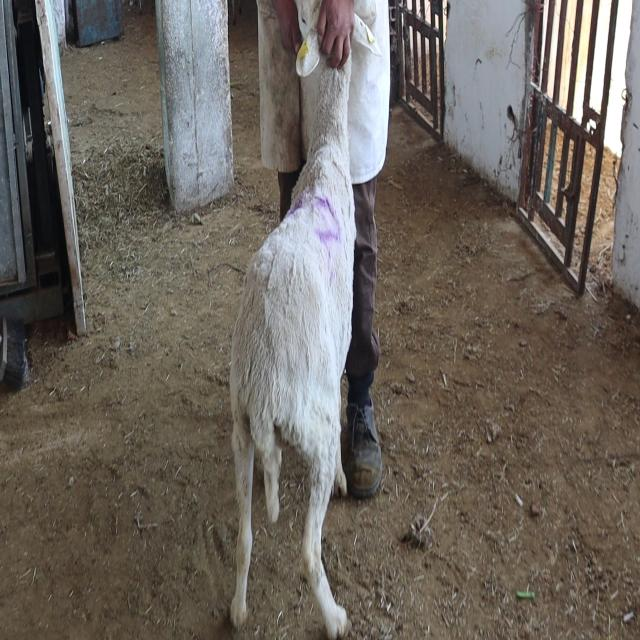Score_2: (229, 0, 356, 638)
